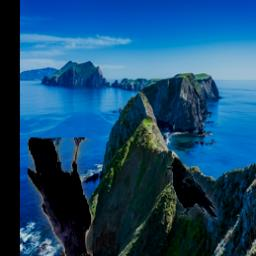Crow: (28, 137, 93, 256), (167, 158, 218, 222)
